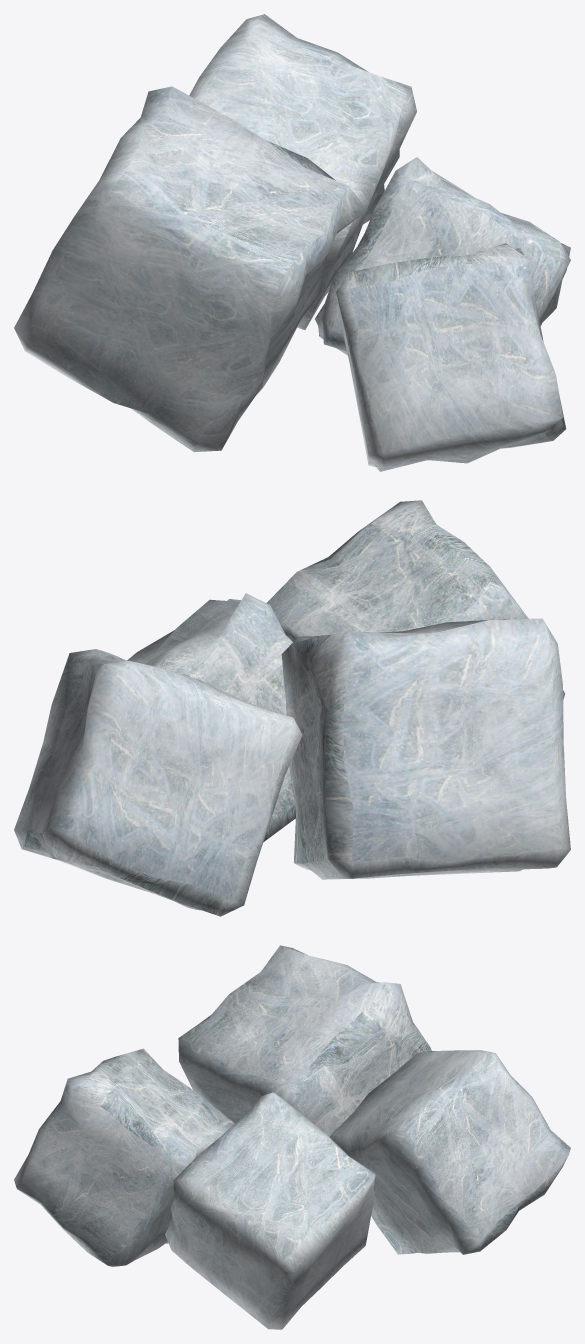
The model's file is amir ice.fbx.
The picture shows the model from 3 angles, top to bottom: view 1: azimuth 30°, elevation 25°; view 2: azimuth 150°, elevation 25°; view 3: azimuth 270°, elevation 25°; orthographic projection. The views are drawn at different scales.
Visible parts, largest first — view 1: ice; view 2: ice; view 3: ice.
Boxes of the visible parts, left/top/right/bottom form: ice: left=14, top=14, right=570, bottom=471; ice: left=14, top=500, right=570, bottom=916; ice: left=14, top=945, right=570, bottom=1329.
Bounding box in the file's own units: 0.4036 × 0.2536 × 0.4891.
Materials: 1 (1 with a texture image).
